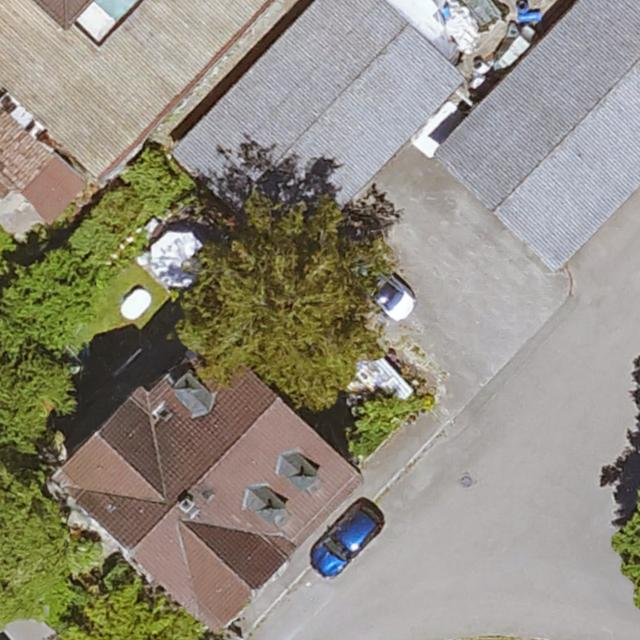tree: (186, 198, 384, 408), (62, 565, 209, 640), (1, 249, 96, 352), (0, 351, 81, 448), (615, 483, 640, 609)
